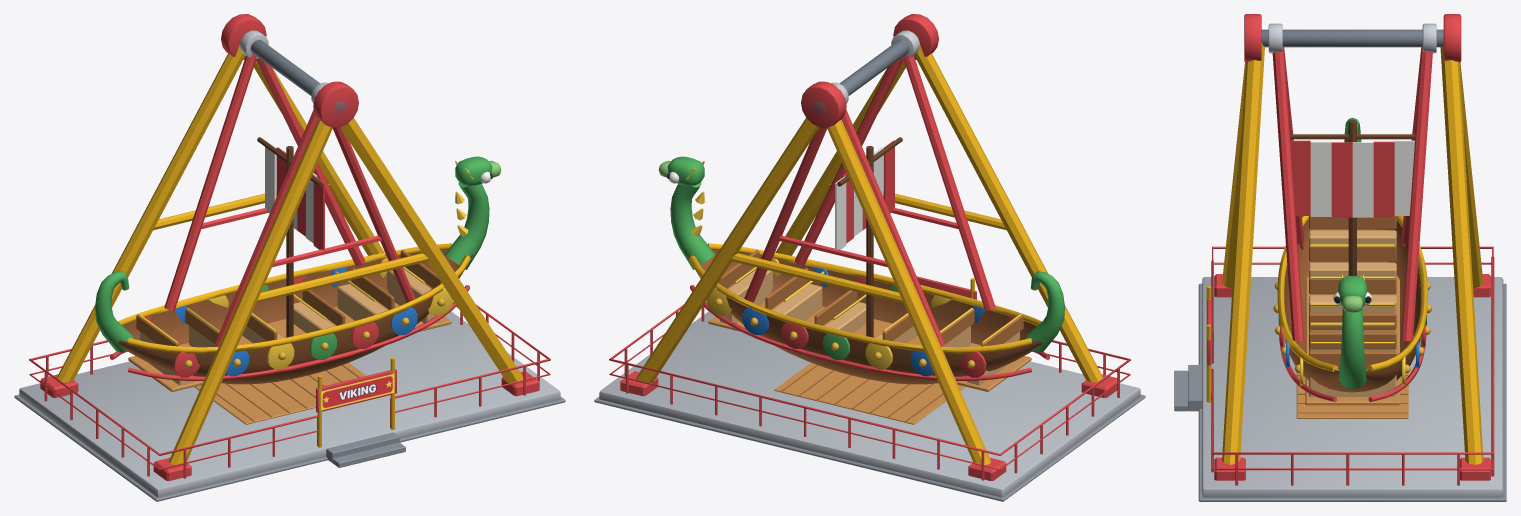
File: barco_viking.glb
The picture shows the model from 3 angles, left to right: view 1: azimuth 30°, elevation 25°; view 2: azimuth 150°, elevation 25°; view 3: azimuth 270°, elevation 25°; orthographic projection. The views are drawn at different scales.
Parts seen in each view (by area): view 1: barco_viking, barco; view 2: barco_viking, barco; view 3: barco_viking, barco.
Boxes of the visible parts, <box> form: barco_viking: <box>14,14,565,501</box>; barco: <box>95,30,501,391</box>; barco_viking: <box>594,14,1145,501</box>; barco: <box>658,30,1064,391</box>; barco_viking: <box>1174,14,1506,501</box>; barco: <box>1268,23,1436,405</box>.
Size of the model in its own units: 14.75 by 11.92 by 9.5.
Materials: 2 (2 with a texture image).
